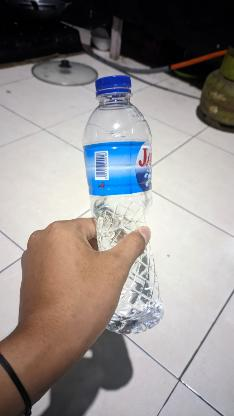Plastic Bottle: (82, 72, 164, 334)
